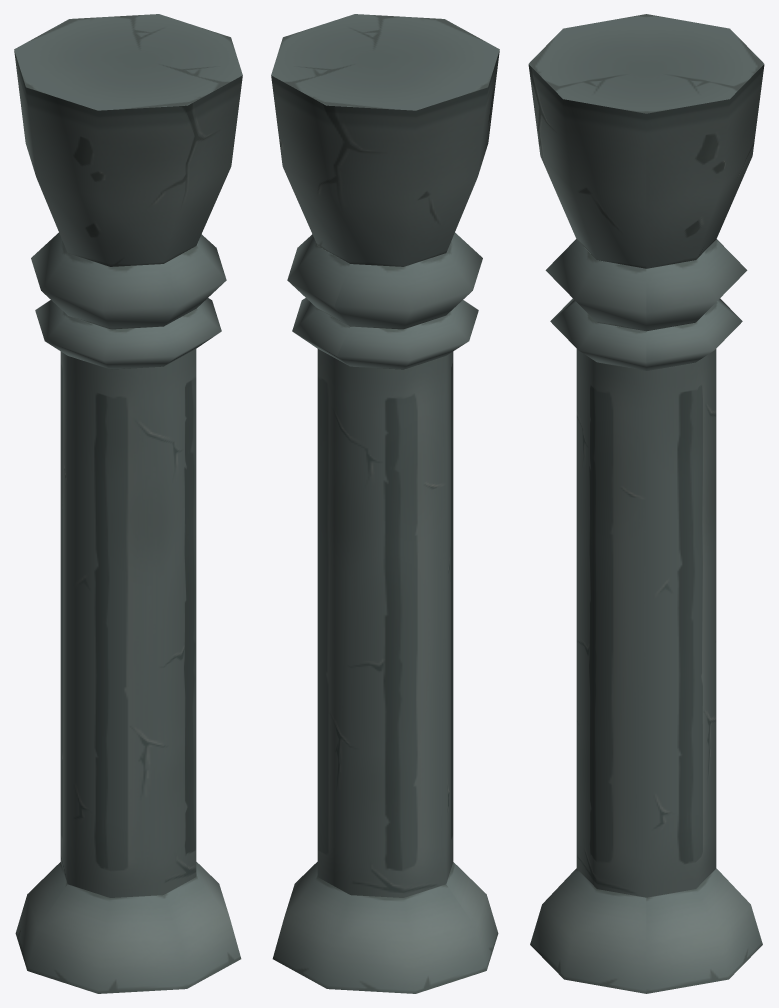
Rendered from Dg_01_pillar_002.FBX.
The picture shows the model from 3 angles, left to right: view 1: azimuth 30°, elevation 25°; view 2: azimuth 150°, elevation 25°; view 3: azimuth 270°, elevation 25°; orthographic projection.
Parts seen in each view (by area): view 1: Dg_01_pillar_002; view 2: Dg_01_pillar_002; view 3: Dg_01_pillar_002.
Boxes of the visible parts, x1,y1,x2,y2 form: Dg_01_pillar_002: (14, 14, 242, 993); Dg_01_pillar_002: (271, 14, 499, 993); Dg_01_pillar_002: (528, 14, 764, 993).
Size of the model in its own units: 1.12 by 4.6 by 1.12.
